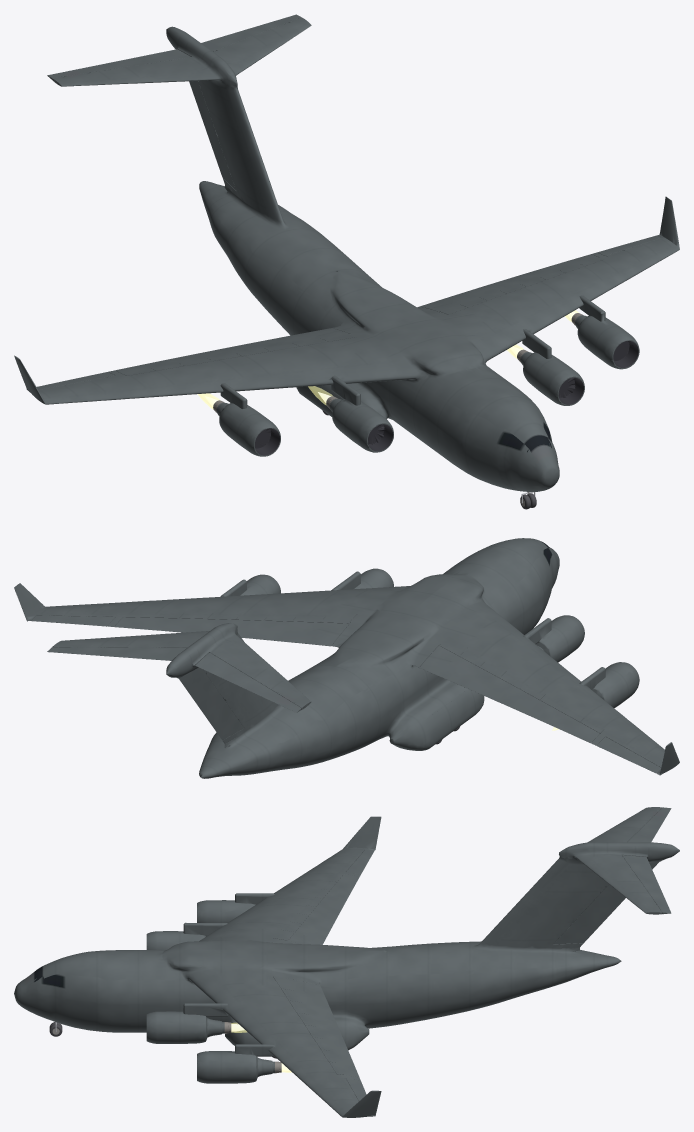
3 renders of one model, top to bottom at view 1: azimuth 30°, elevation 25°; view 2: azimuth 150°, elevation 25°; view 3: azimuth 270°, elevation 25°, orthographic. The views are drawn at different scales.
Parts seen in each view (by area): view 1: fsim:section:centre, fsim:section:tail, fsim:section:nose, fsim:section:right-wing, fsim:section:left-wing, fsim:flaps (×2), fsim:elevator (×2), fsim:rudder; view 2: fsim:section:centre, fsim:section:tail, fsim:section:right-wing, fsim:flaps (×2), fsim:section:left-wing, fsim:section:nose, fsim:elevator (×2), fsim:rudder, fsim:aileron (×2); view 3: fsim:section:centre, fsim:section:tail, fsim:section:nose, fsim:section:left-wing, fsim:section:right-wing, fsim:flaps (×2), fsim:rudder, fsim:elevator (×2).
Part boxes in pixels (bbox=[...]): fsim:section:centre: bbox=[214, 224, 639, 456]; fsim:section:tail: bbox=[52, 17, 316, 286]; fsim:section:nose: bbox=[353, 363, 584, 491]; fsim:section:right-wing: bbox=[14, 329, 413, 404]; fsim:section:left-wing: bbox=[438, 196, 679, 357]; fsim:flaps (×2): bbox=[114, 254, 599, 373]; fsim:elevator (×2): bbox=[47, 14, 301, 79]; fsim:rudder: bbox=[189, 81, 236, 190]; fsim:section:centre: bbox=[223, 571, 639, 763]; fsim:section:tail: bbox=[52, 623, 330, 778]; fsim:section:right-wing: bbox=[421, 605, 679, 775]; fsim:flaps (×2): bbox=[114, 617, 600, 743]; fsim:section:left-wing: bbox=[14, 583, 402, 637]; fsim:section:nose: bbox=[362, 538, 584, 647]; fsim:elevator (×2): bbox=[47, 647, 301, 712]; fsim:rudder: bbox=[178, 667, 243, 740]; fsim:aileron (×2): bbox=[31, 615, 660, 773]; fsim:section:centre: bbox=[134, 893, 479, 1083]; fsim:section:tail: bbox=[465, 807, 679, 1010]; fsim:section:nose: bbox=[14, 931, 171, 1043]; fsim:section:left-wing: bbox=[193, 969, 381, 1117]; fsim:section:right-wing: bbox=[199, 816, 381, 941]; fsim:flaps (×2): bbox=[286, 874, 359, 1077]; fsim:rudder: bbox=[553, 861, 659, 944]; fsim:elevator (×2): bbox=[622, 807, 671, 914].
Size of the model in its own units: 51.8 by 16.87 by 53.04.
Materials: 11 (1 with a texture image).
